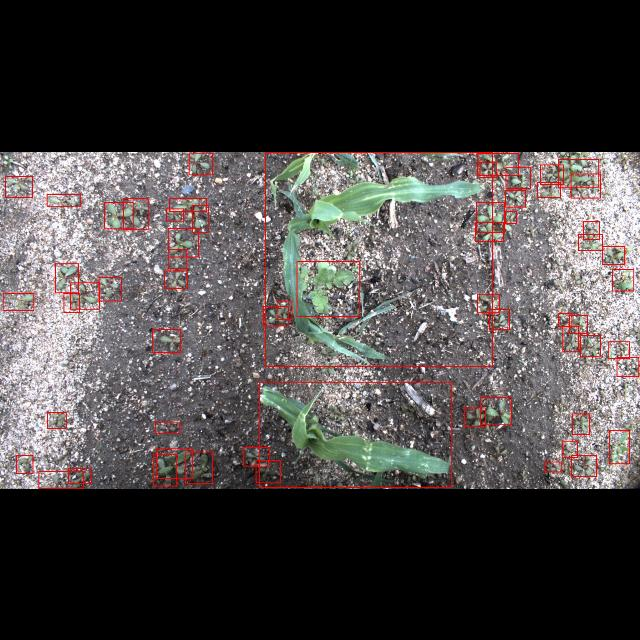crop: (266, 151, 492, 365), (260, 381, 452, 487)
weed: (296, 260, 359, 316), (559, 158, 599, 186), (156, 448, 192, 478), (478, 152, 518, 174), (185, 452, 212, 484), (168, 228, 198, 256), (476, 201, 504, 231), (481, 398, 512, 424), (70, 282, 100, 308), (105, 202, 134, 228), (38, 472, 84, 488), (124, 198, 148, 228), (571, 173, 601, 197), (154, 454, 176, 486), (609, 431, 629, 464), (56, 264, 78, 292), (152, 330, 180, 352), (5, 176, 32, 197), (4, 292, 34, 310), (474, 222, 504, 240), (99, 276, 121, 300), (256, 460, 280, 482), (506, 166, 530, 188), (170, 197, 207, 211), (190, 152, 212, 174), (612, 268, 634, 290), (244, 446, 268, 466), (264, 306, 288, 326), (572, 456, 596, 476), (540, 164, 564, 184), (192, 204, 208, 232), (617, 356, 639, 376), (464, 408, 486, 427), (562, 325, 578, 351), (165, 270, 188, 288), (47, 193, 81, 205), (578, 233, 602, 250), (489, 309, 509, 329), (580, 336, 600, 356), (477, 294, 499, 312), (608, 340, 630, 358), (602, 246, 624, 264), (68, 468, 92, 484), (168, 248, 186, 268), (572, 414, 590, 434), (505, 190, 525, 207), (569, 315, 587, 333), (64, 292, 80, 312), (538, 182, 560, 196), (48, 412, 66, 428), (17, 455, 33, 473), (156, 421, 180, 433), (562, 440, 578, 458), (583, 221, 599, 239), (278, 300, 292, 320), (479, 162, 496, 176), (166, 208, 184, 220), (558, 312, 572, 326), (544, 462, 562, 472), (506, 210, 516, 222)
